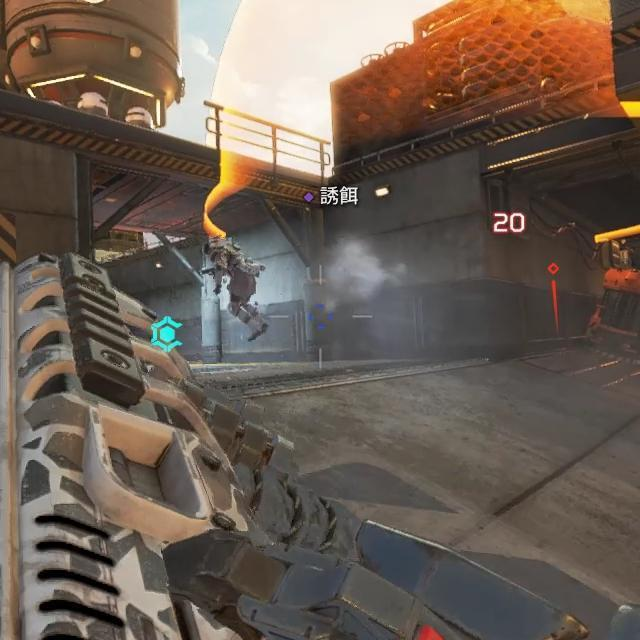avatar: (200, 239, 270, 345)
